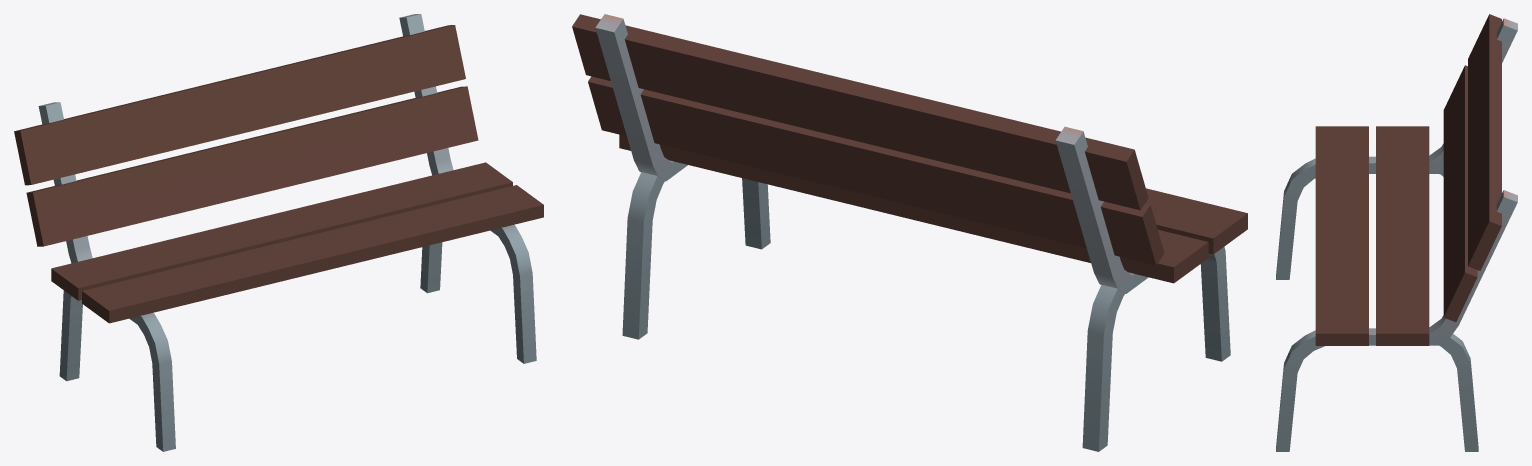
The model's file is Bench.fbx.
3 views of the same model, side by side, from view 1: azimuth 30°, elevation 25°; view 2: azimuth 150°, elevation 25°; view 3: azimuth 270°, elevation 25° (orthographic). The views are drawn at different scales.
Visible parts, largest first — view 1: Bench; view 2: Bench; view 3: Bench.
Part boxes in pixels (bbox=[...]): Bench: bbox=[14, 14, 543, 451]; Bench: bbox=[572, 14, 1247, 451]; Bench: bbox=[1276, 14, 1517, 451].
Size of the model in its own units: 101 by 57.9 by 49.64.
